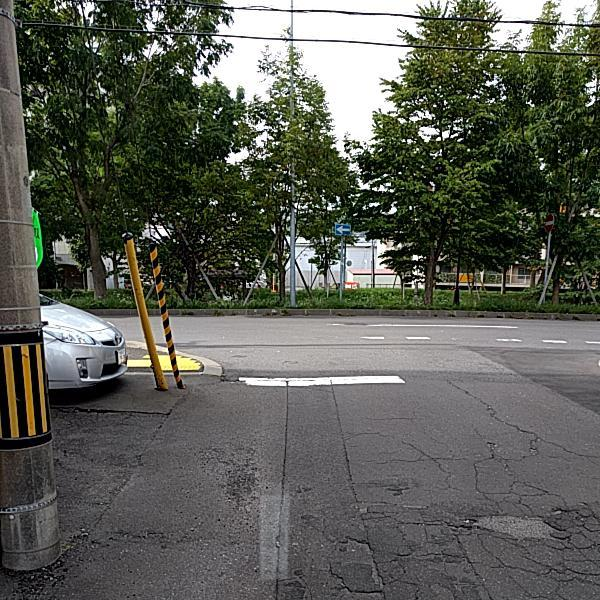D20: (290, 381, 599, 598)
D40: (461, 505, 584, 545)
